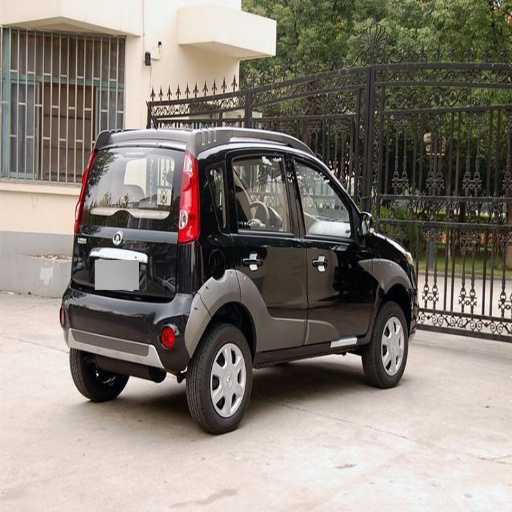back_bumper: (60, 281, 206, 373)
back_right_door: (227, 144, 307, 351)
trunk: (78, 210, 177, 297)
